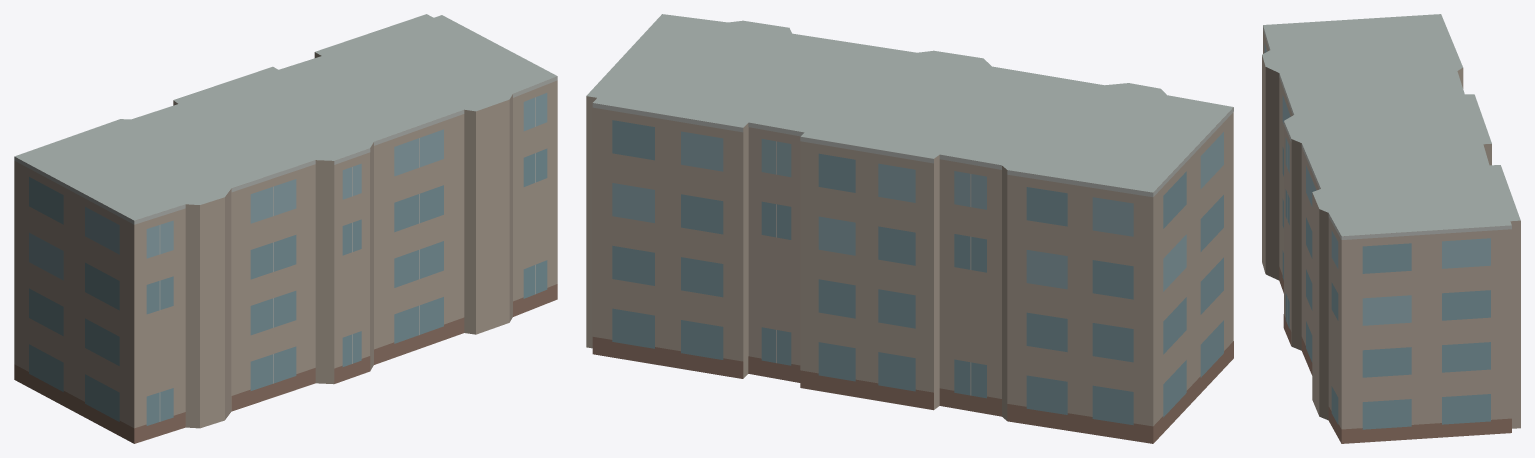
File: survey-upis-32708421.glb
The picture shows the model from 3 angles, left to right: view 1: azimuth 30°, elevation 25°; view 2: azimuth 150°, elevation 25°; view 3: azimuth 270°, elevation 25°; orthographic projection. The views are drawn at different scales.
Visible parts, largest first — view 1: survey-upis-32708421.tmp; view 2: survey-upis-32708421.tmp; view 3: survey-upis-32708421.tmp.
Part boxes in pixels (x1,y1,x2,y2): survey-upis-32708421.tmp: [14, 14, 557, 443]; survey-upis-32708421.tmp: [586, 14, 1233, 443]; survey-upis-32708421.tmp: [1262, 14, 1520, 443].
Bounding box in the file's own units: 30.2 × 13.15 × 14.86.
